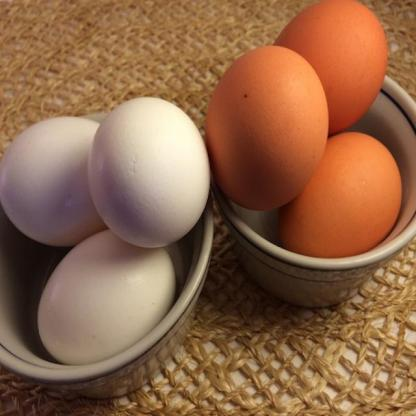egg: (29, 210, 196, 376), (82, 81, 228, 262), (198, 25, 332, 214), (272, 118, 410, 282), (260, 4, 396, 145), (1, 81, 118, 243)
